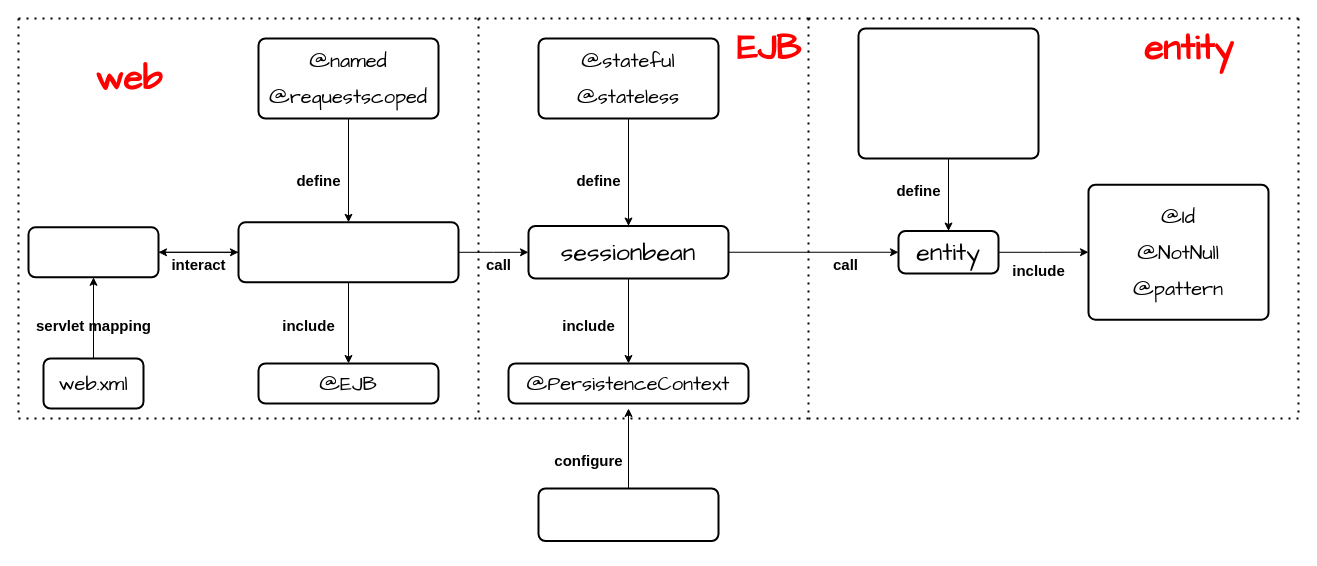
Image size: 1317x566. Some labels were removed from this diagram. The shapes that lost their labels are listed below. From the top down, each one's centre as x and y in pixels, then its label:
At point (948, 93): "@Entity @Table @NamedQueries".
At point (93, 252): "index.xhtml".
At point (348, 252): "messagebean".
At point (628, 514): "persistence.xml".
